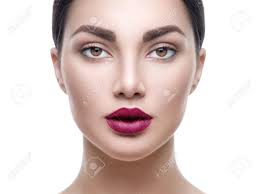white_female: (51, 14, 206, 160)
